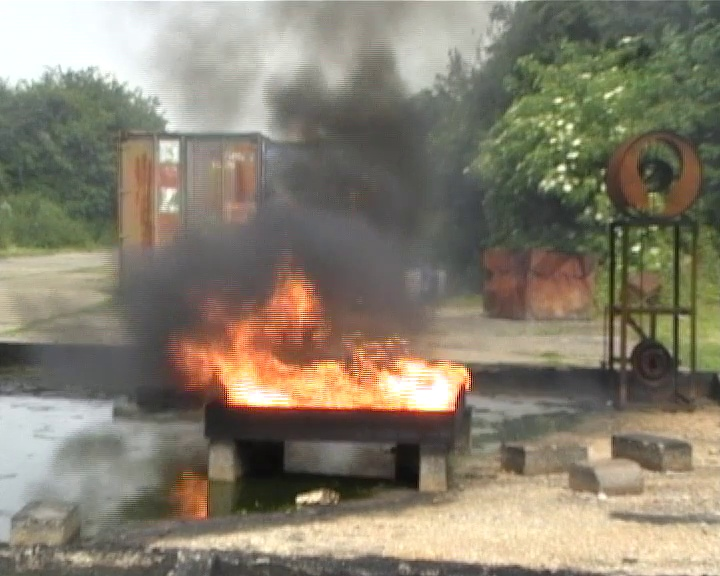fire: (173, 287, 453, 407)
